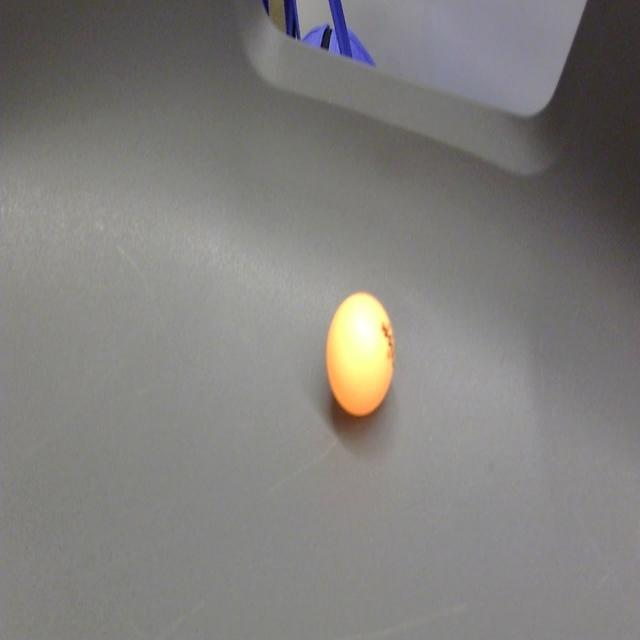ball: (324, 288, 397, 428)
